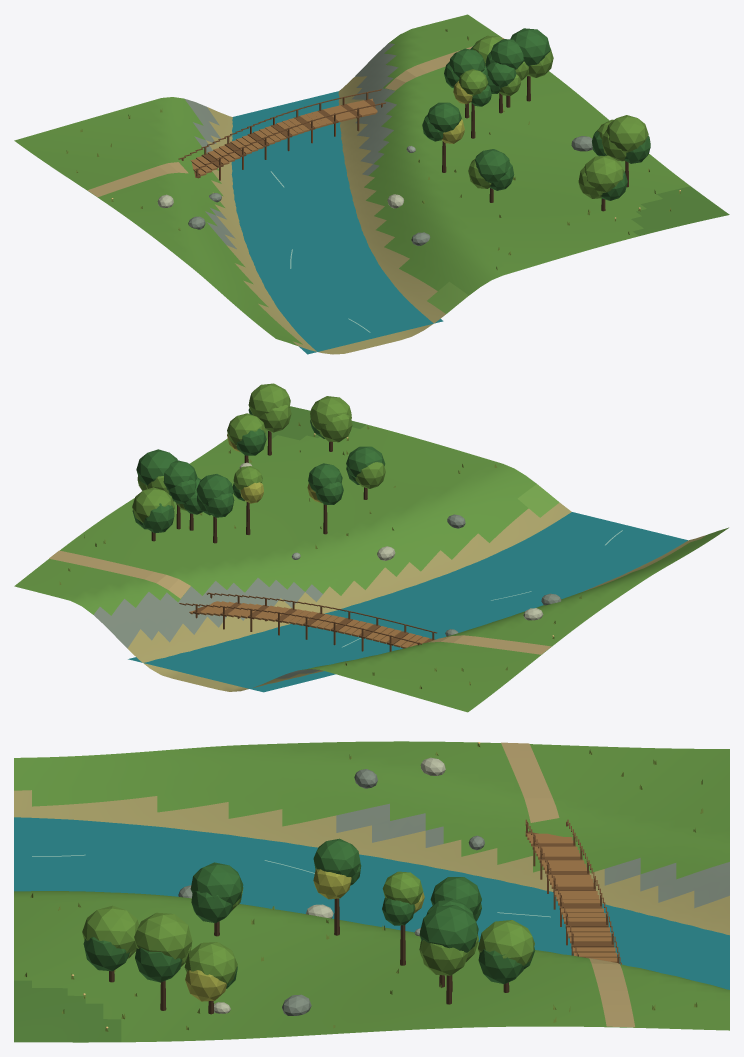
File: Chunk_X0_Y0_Z-1.fbx
3 views of the same model, one above another, from view 1: azimuth 30°, elevation 25°; view 2: azimuth 150°, elevation 25°; view 3: azimuth 270°, elevation 25° (orthographic). The views are drawn at different scales.
Parts seen in each view (by area): view 1: Terrain.023, Water.002, Canopies.022, Bridge, Path.003, Rocks.023, Trunks.022; view 2: Terrain.023, Water.002, Canopies.022, Bridge, Path.003, Rocks.023, Trunks.022; view 3: Terrain.023, Water.002, Canopies.022, Bridge, Path.003, Rocks.023, Trunks.022, GroundCover.023.
Boxes of the visible parts, x1,y1,x2,y2 form: Terrain.023: (14,14,729,354); Water.002: (231,91,443,354); Canopies.022: (422,28,650,200); Bridge: (178,89,385,180); Path.003: (88,37,504,196); Rocks.023: (157,136,592,245); Trunks.022: (442,76,628,211); Terrain.023: (14,406,728,712); Water.002: (128,512,687,692); Canopies.022: (132,383,385,533); Bridge: (179,592,437,651); Path.003: (49,550,551,654); Rocks.023: (239,462,561,636); Trunks.022: (151,431,367,543); Terrain.023: (14,741,729,1042); Water.002: (14,817,729,989); Canopies.022: (82,838,535,1001); Bridge: (525,819,621,964); Path.003: (501,742,634,1027); Rocks.023: (178,757,484,1015); Trunks.022: (109,898,509,1014); GroundCover.023: (24,742,703,1031).
Size of the model in its own units: 100 by 26 by 100.
